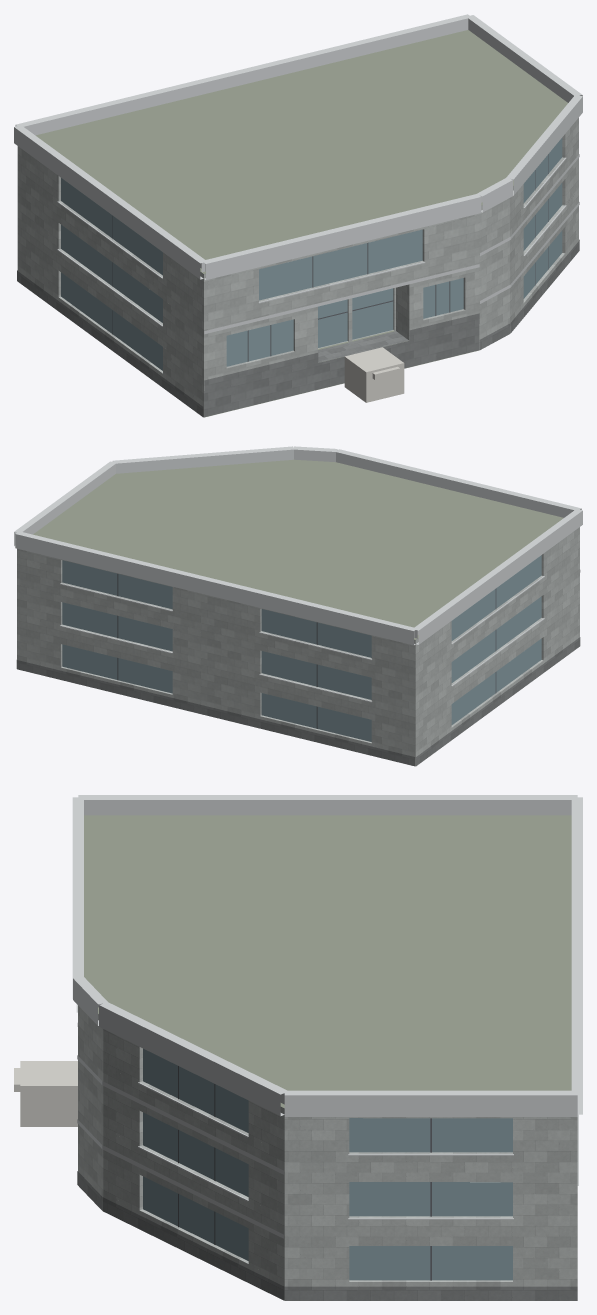
3 views of the same model, one above another, from view 1: azimuth 30°, elevation 25°; view 2: azimuth 150°, elevation 25°; view 3: azimuth 270°, elevation 25° (orthographic). The views are drawn at different scales.
Visible parts, largest first — view 1: b139_1__roof, b139_1__wall, b139_1__trim, b139_1__glass, b139_1__base, b139_1__entranceStair, b139_1__frame; view 2: b139_1__roof, b139_1__wall, b139_1__glass, b139_1__trim, b139_1__base; view 3: b139_1__roof, b139_1__wall, b139_1__trim, b139_1__glass, b139_1__base, b139_1__entranceStair.
Part boxes in pixels (x1,y1,x2,y2): b139_1__roof: (35, 30, 567, 417); b139_1__wall: (17, 118, 578, 417); b139_1__trim: (14, 14, 582, 334); b139_1__glass: (61, 138, 562, 370); b139_1__base: (17, 239, 579, 417); b139_1__entranceStair: (344, 347, 404, 402); b139_1__frame: (112, 154, 548, 361); b139_1__roof: (33, 459, 563, 639); b139_1__wall: (17, 527, 579, 766); b139_1__glass: (62, 555, 541, 741); b139_1__trim: (14, 446, 582, 702); b139_1__base: (16, 637, 580, 766); b139_1__roof: (84, 815, 571, 1257); b139_1__wall: (78, 1005, 577, 1299); b139_1__trim: (72, 795, 582, 1238); b139_1__glass: (143, 1048, 512, 1280); b139_1__base: (77, 1171, 577, 1300); b139_1__entranceStair: (14, 1061, 77, 1126).
Size of the model in its own units: 36.23 by 11.97 by 29.01.
Materials: 8 (2 with a texture image).
